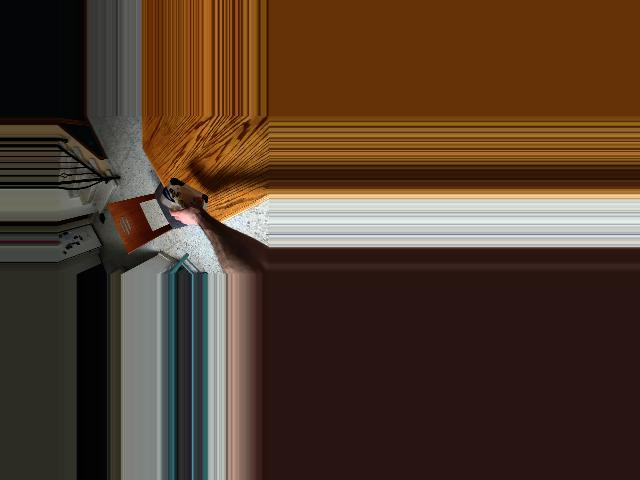cheese: (160, 178, 211, 224)
